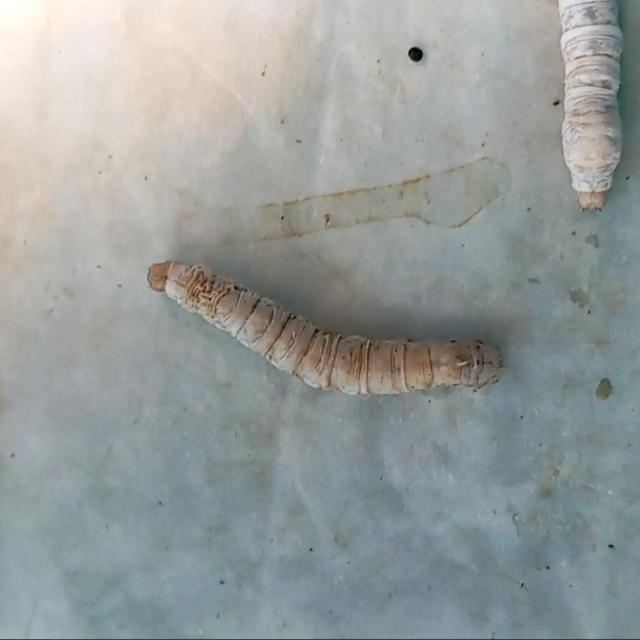Grasserie: (118, 211, 536, 475)
